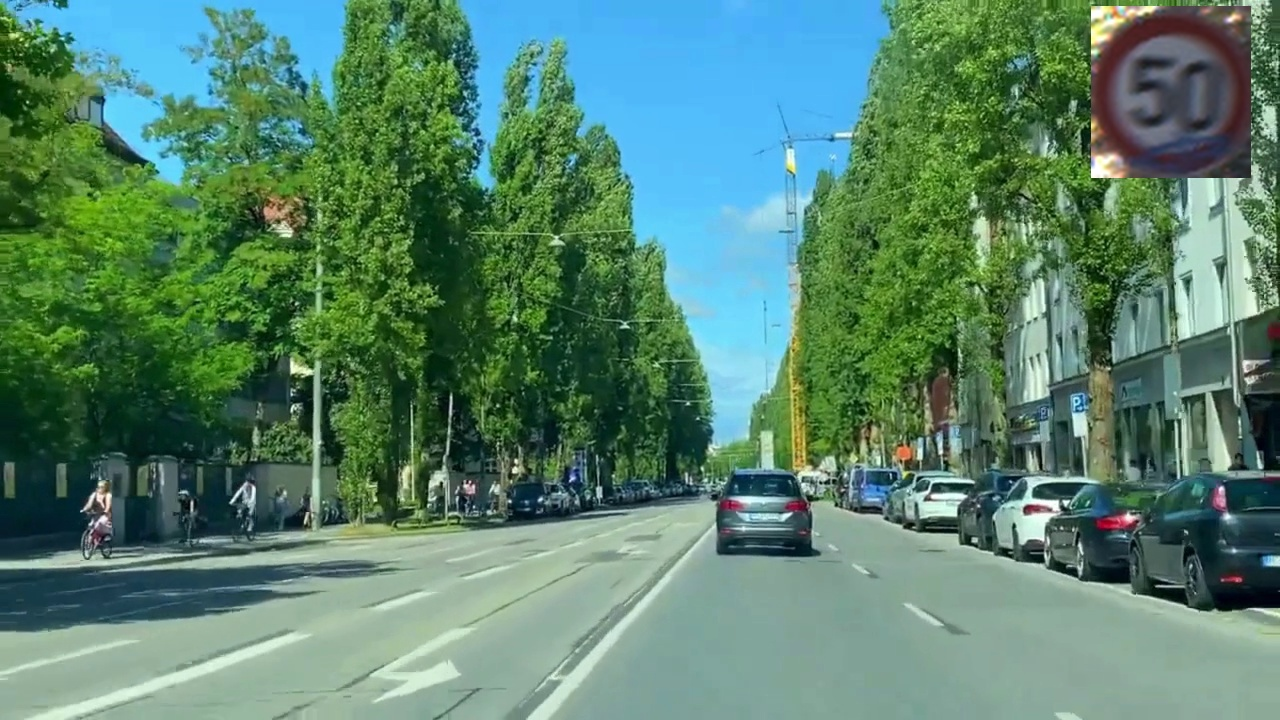Speed 50: (1091, 6, 1251, 178)
